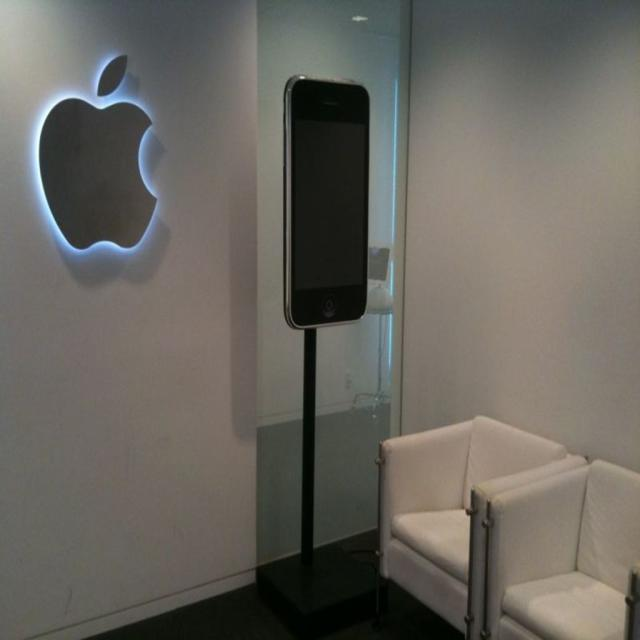Mobile-phone: (266, 74, 376, 344)
